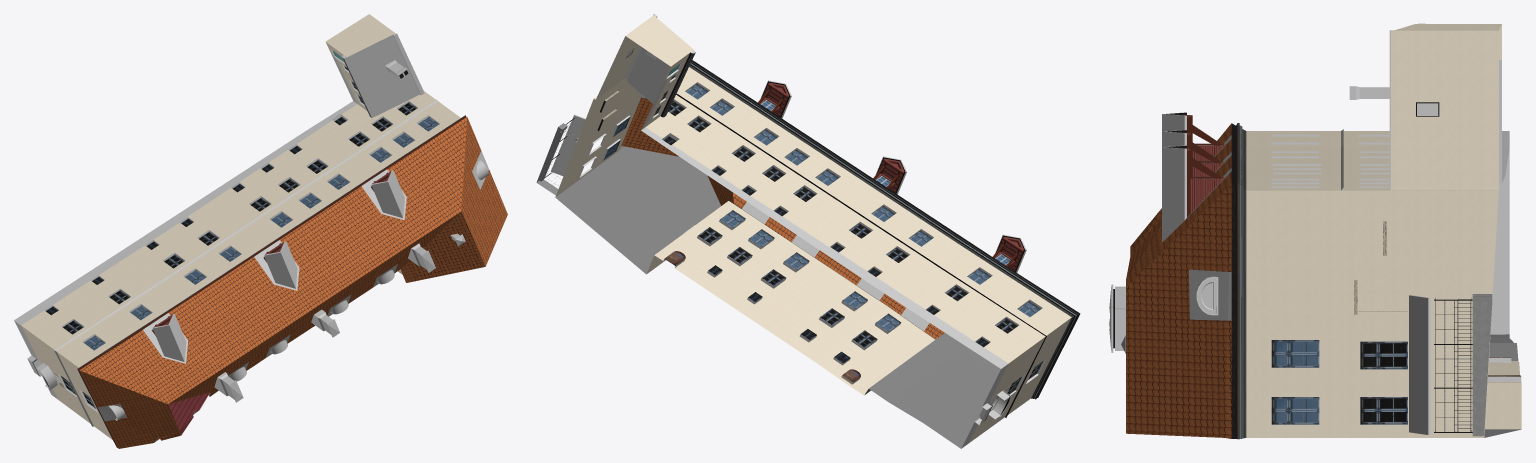
File: Kooli_2.obj
3 views of the same model, side by side, from view 1: azimuth 30°, elevation 25°; view 2: azimuth 150°, elevation 25°; view 3: azimuth 270°, elevation 25° (orthographic). The views are drawn at different scales.
Parts seen in each view (by area): view 1: Kooli_2; view 2: Kooli_2; view 3: Kooli_2.
Boxes of the visible parts, x1,y1,x2,y2 form: Kooli_2: (14, 14, 507, 448); Kooli_2: (536, 14, 1080, 448); Kooli_2: (1109, 23, 1521, 439).
Size of the model in its own units: 46.98 by 31.24 by 18.91.
